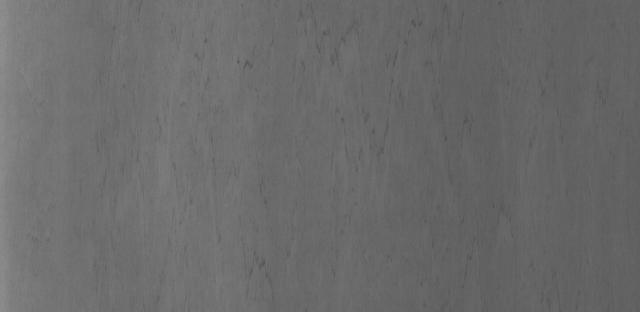silk_spot: (171, 13, 486, 281)
